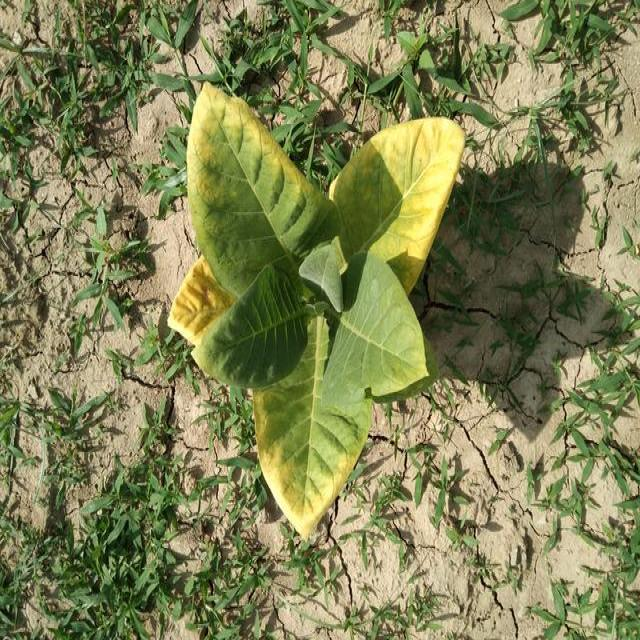crop: (169, 68, 476, 545)
